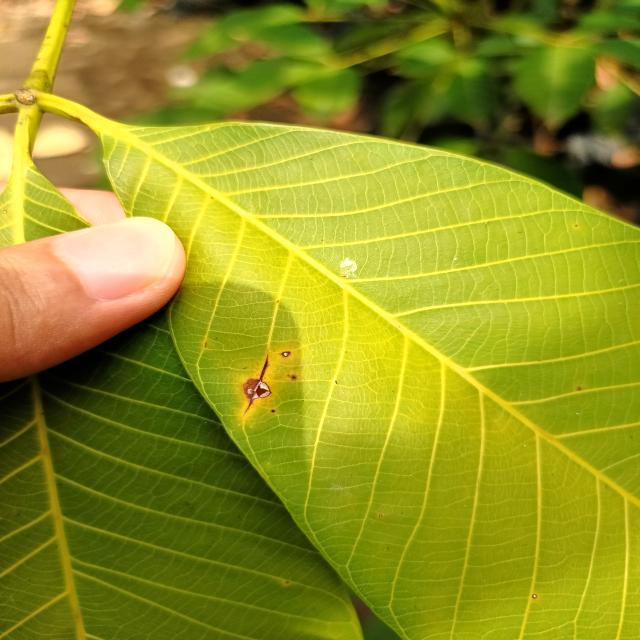Colletotrichum: (282, 352, 290, 357), (292, 376, 296, 379), (272, 410, 276, 412)
Corynespora: (245, 355, 270, 413)
